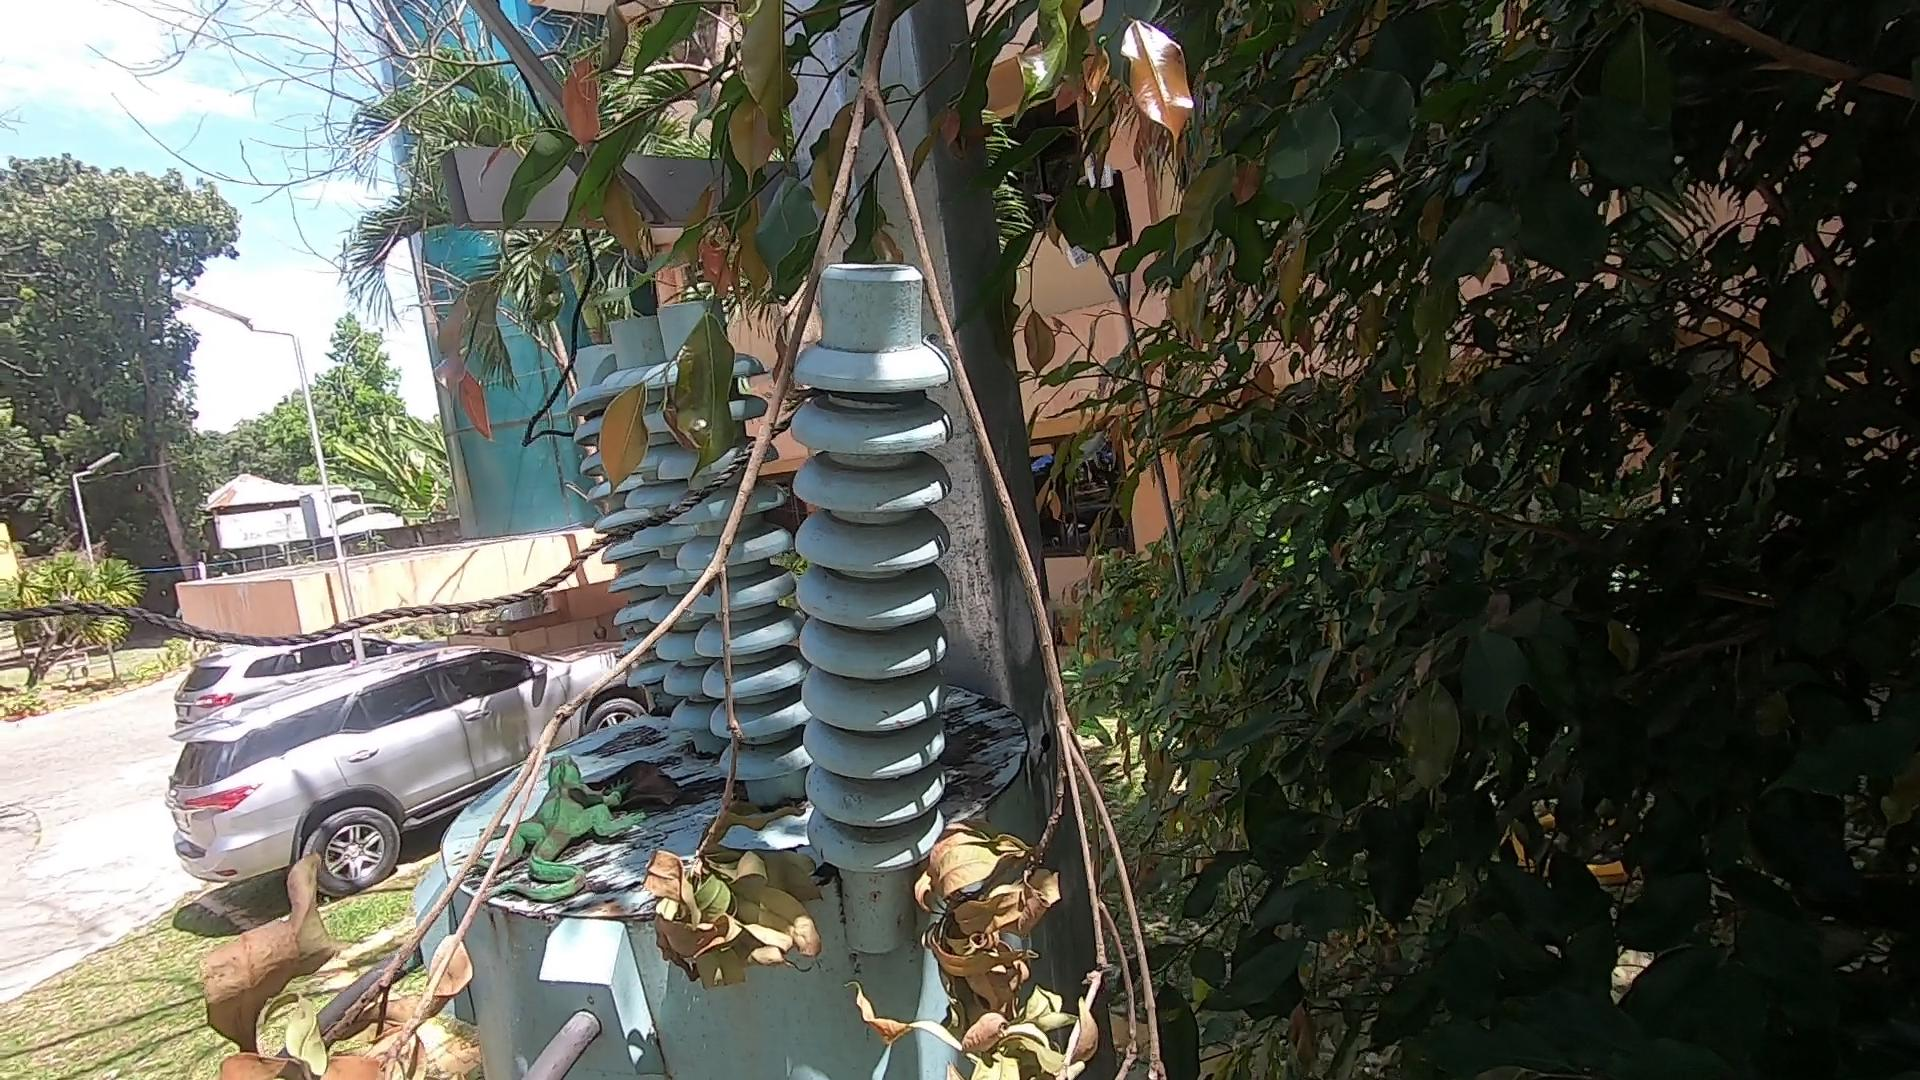branch with leaves: (190, 1, 1200, 1077)
leaf: (589, 758, 698, 822)
